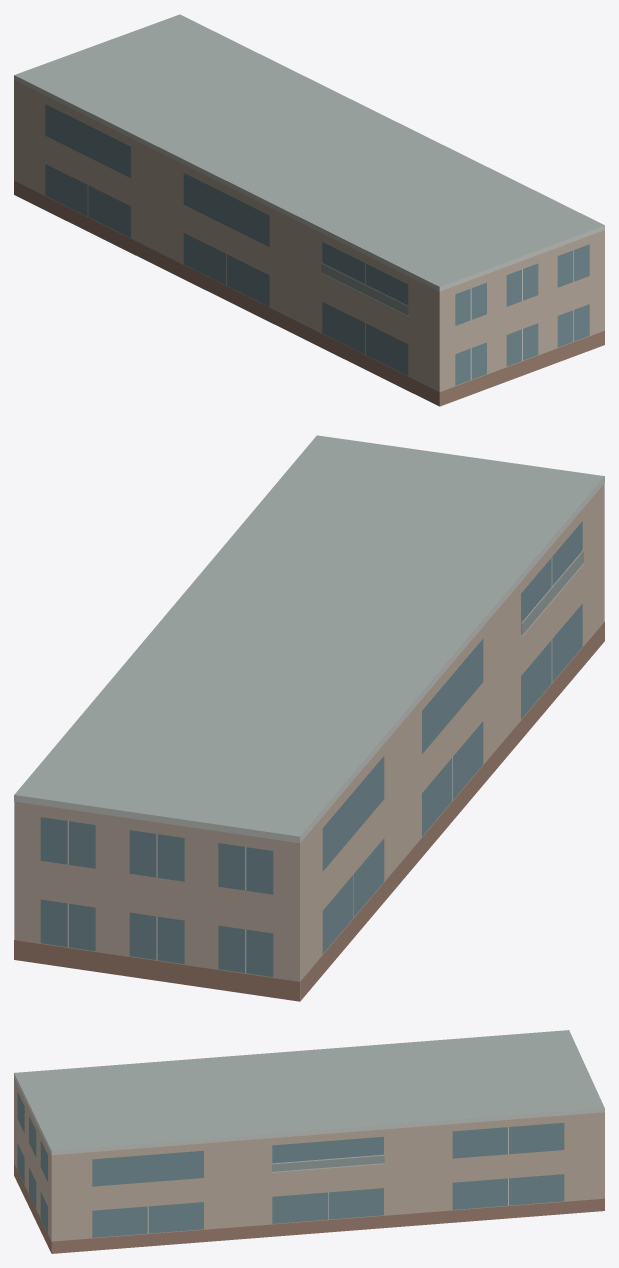
Rendered from survey-upis-33025331.glb.
3 views of the same model, one above another, from view 1: azimuth 30°, elevation 25°; view 2: azimuth 150°, elevation 25°; view 3: azimuth 270°, elevation 25° (orthographic). The views are drawn at different scales.
Visible parts, largest first — view 1: survey-upis-33025331.tmp; view 2: survey-upis-33025331.tmp; view 3: survey-upis-33025331.tmp.
Part boxes in pixels (x1,y1,x2,y2): survey-upis-33025331.tmp: (14,14,604,406); survey-upis-33025331.tmp: (14,435,604,1001); survey-upis-33025331.tmp: (14,1030,604,1253).
Size of the model in its own units: 15.44 by 6.1 by 31.81.
